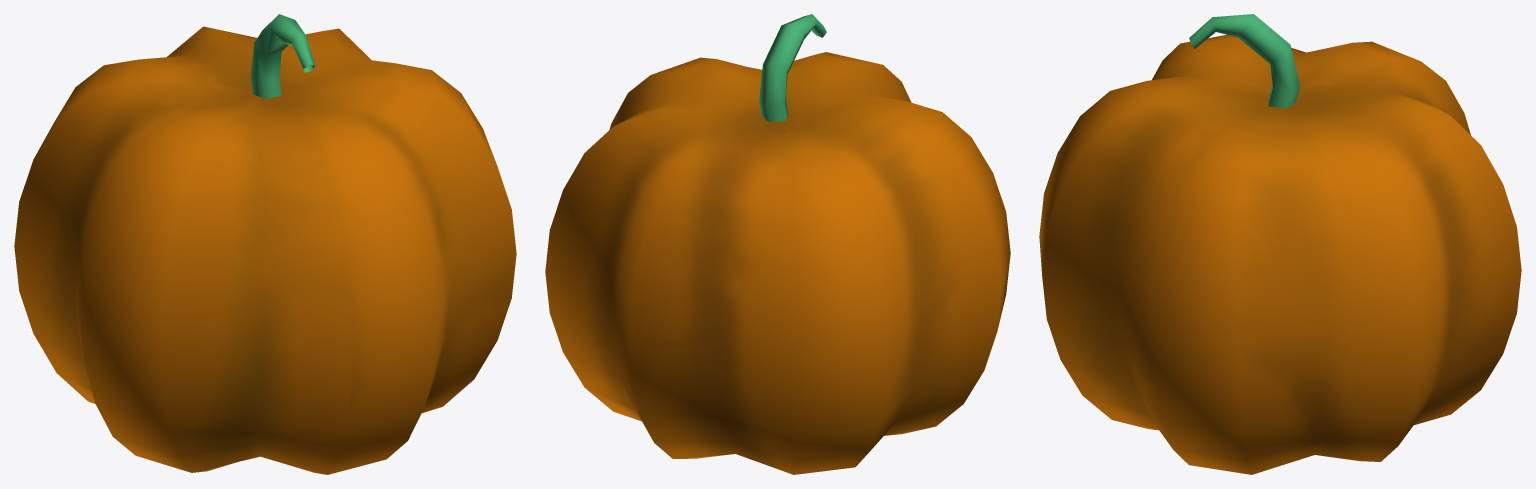
The model's file is Pumpkin.fbx.
The picture shows the model from 3 angles, left to right: view 1: azimuth 30°, elevation 25°; view 2: azimuth 150°, elevation 25°; view 3: azimuth 270°, elevation 25°; orthographic projection. The views are drawn at different scales.
Visible parts, largest first — view 1: Sphere; view 2: Sphere; view 3: Sphere.
Boxes of the visible parts, left/top/right/bottom form: Sphere: left=14, top=14, right=516, bottom=474; Sphere: left=545, top=14, right=1010, bottom=474; Sphere: left=1039, top=14, right=1521, bottom=474.
Size of the model in its own units: 0.7087 by 0.6563 by 0.7129.
